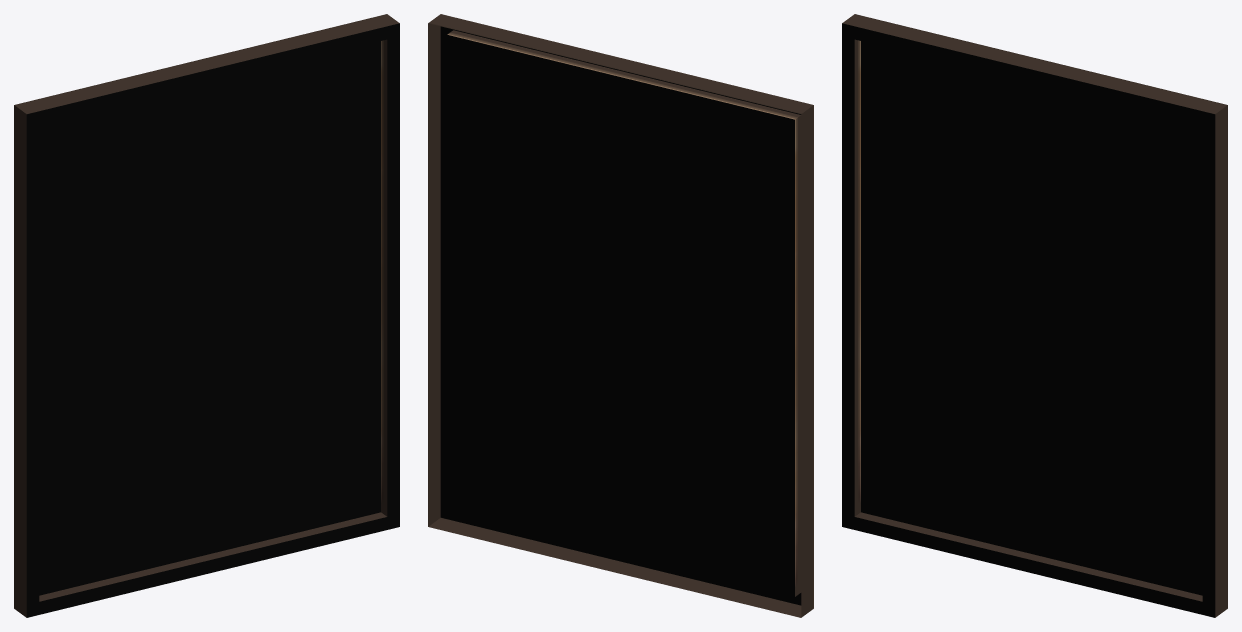
Rendered from bug_diagram.FBX.
The picture shows the model from 3 angles, left to right: view 1: azimuth 30°, elevation 25°; view 2: azimuth 150°, elevation 25°; view 3: azimuth 330°, elevation 25°; orthographic projection.
Parts seen in each view (by area): view 1: bug_diagrams; view 2: bug_diagrams; view 3: bug_diagrams.
Part boxes in pixels (box(x1,y1,x2,y2)): bug_diagrams: box(14, 14, 399, 617); bug_diagrams: box(428, 14, 813, 617); bug_diagrams: box(842, 14, 1227, 617).
Size of the model in its own units: 35.99 by 46.44 by 2.12.
